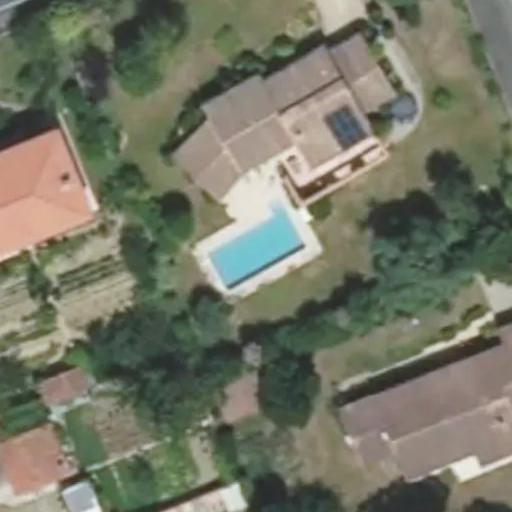pool: (193, 237, 311, 246)
